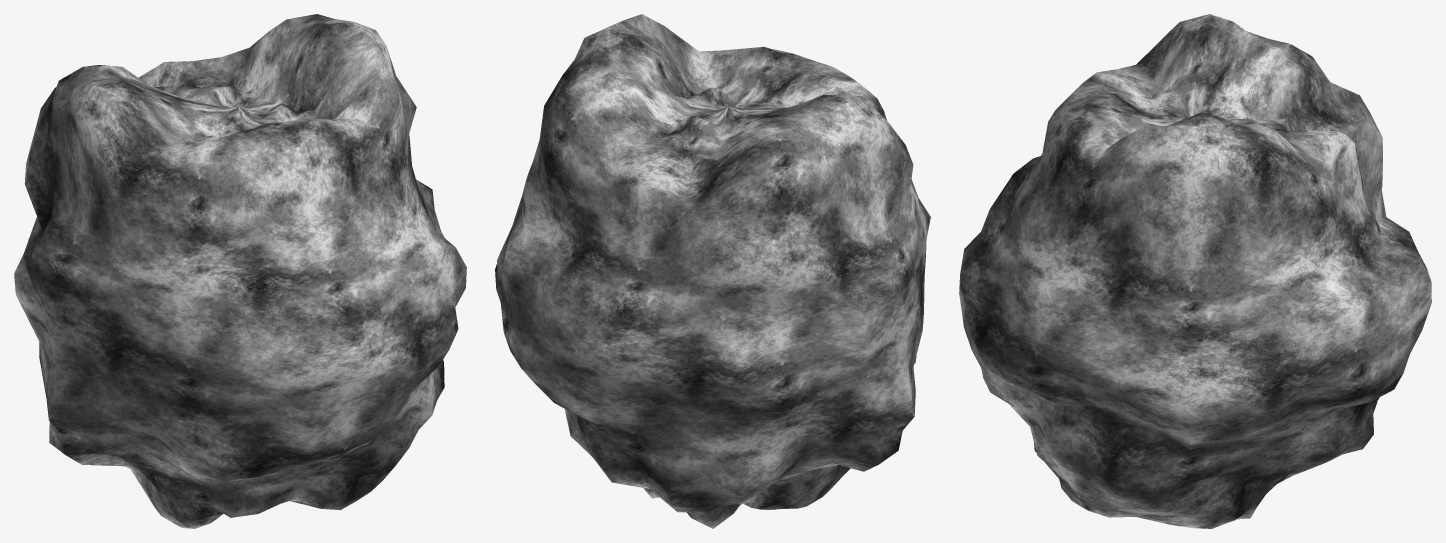
The model's file is Asteroid01c.fbx.
3 renders of one model, left to right at view 1: azimuth 30°, elevation 25°; view 2: azimuth 150°, elevation 25°; view 3: azimuth 270°, elevation 25°, orthographic. The views are drawn at different scales.
Visible parts, largest first — view 1: Asteroid01c; view 2: Asteroid01c; view 3: Asteroid01c.
Part boxes in pixels (<box>): Asteroid01c: <box>14,14,466,528</box>; Asteroid01c: <box>495,14,930,528</box>; Asteroid01c: <box>959,14,1431,528</box>.
Size of the model in its own units: 2039 by 2195 by 2147.
